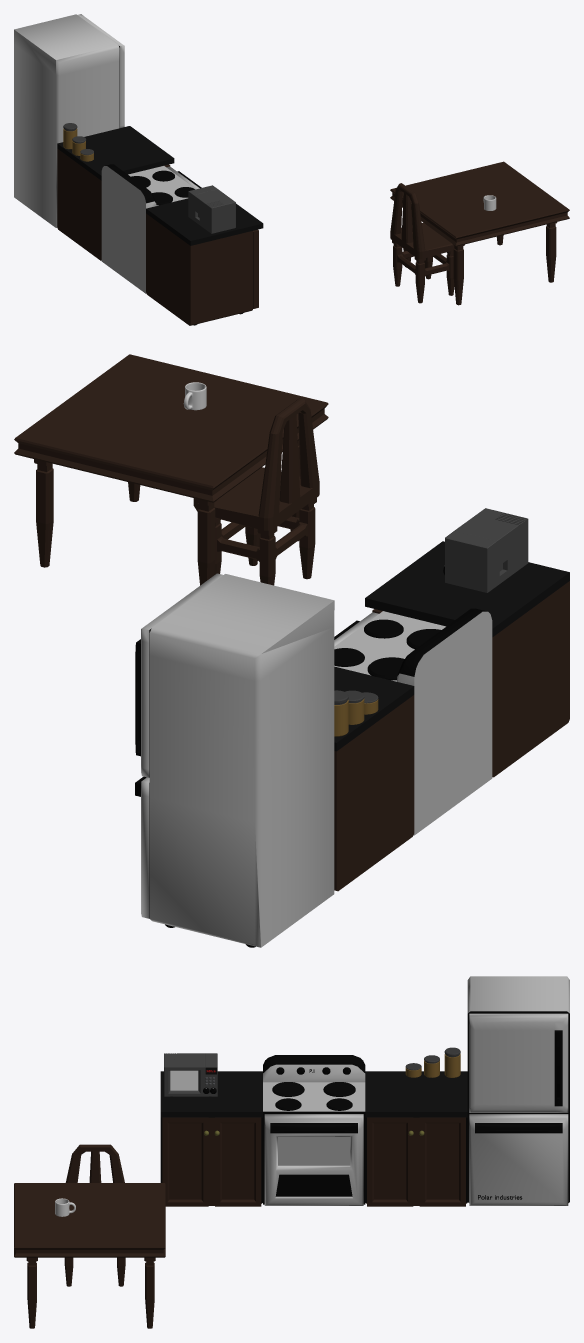
Rendered from KITCHEN MODEL SET (2).fbx.
3 views of the same model, one above another, from view 1: azimuth 30°, elevation 25°; view 2: azimuth 150°, elevation 25°; view 3: azimuth 270°, elevation 25° (orthographic). The views are drawn at different scales.
Parts seen in each view (by area): view 1: FRIDGE, KITCHEN CABINET.001, TABLE.001, KITCHEN CABINET, STOVE/OVEN, CHAIR, MICROWAE FEET; view 2: FRIDGE, TABLE.001, STOVE/OVEN, KITCHEN CABINET.001, KITCHEN CABINET, CHAIR, MICROWAE FEET; view 3: FRIDGE, STOVE/OVEN, KITCHEN CABINET, KITCHEN CABINET.001, TABLE.001, MICROWAE FEET, CHAIR, Cylinder.001.
Part boxes in pixels (<box>): FRIDGE: <box>14,14,124,227</box>; KITCHEN CABINET.001: <box>146,198,263,325</box>; TABLE.001: <box>390,161,569,305</box>; KITCHEN CABINET: <box>57,126,174,260</box>; STOVE/OVEN: <box>101,164,201,293</box>; CHAIR: <box>390,183,454,303</box>; MICROWAE FEET: <box>188,185,235,233</box>; FRIDGE: <box>135,573,334,947</box>; TABLE.001: <box>14,354,328,585</box>; STOVE/OVEN: <box>334,608,492,835</box>; KITCHEN CABINET.001: <box>365,541,569,777</box>; KITCHEN CABINET: <box>334,666,414,891</box>; CHAIR: <box>193,398,319,585</box>; MICROWAE FEET: <box>443,508,528,592</box>; FRIDGE: <box>467,976,569,1205</box>; STOVE/OVEN: <box>263,1055,365,1205</box>; KITCHEN CABINET: <box>365,1071,467,1206</box>; KITCHEN CABINET.001: <box>160,1071,262,1206</box>; TABLE.001: <box>14,1183,165,1328</box>; MICROWAE FEET: <box>164,1053,217,1096</box>; CHAIR: <box>64,1144,125,1286</box>; Cylinder.001: <box>444,1047,460,1077</box>.
Size of the model in its own units: 820 by 423 by 1087.
